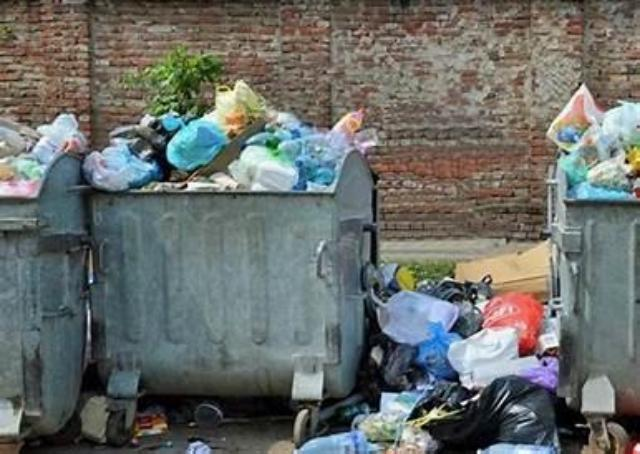Garbage: (297, 292, 555, 454), (84, 81, 376, 192), (546, 84, 640, 200), (1, 114, 86, 196)
Plastic_Bag: (548, 84, 640, 200), (430, 375, 556, 450), (447, 329, 557, 391), (376, 291, 459, 345), (483, 292, 544, 356), (83, 145, 163, 191), (166, 119, 228, 171), (33, 114, 86, 165), (415, 323, 461, 381), (109, 115, 166, 160), (410, 381, 475, 419), (0, 155, 45, 197)
Plastic_bottle: (247, 113, 350, 190)
